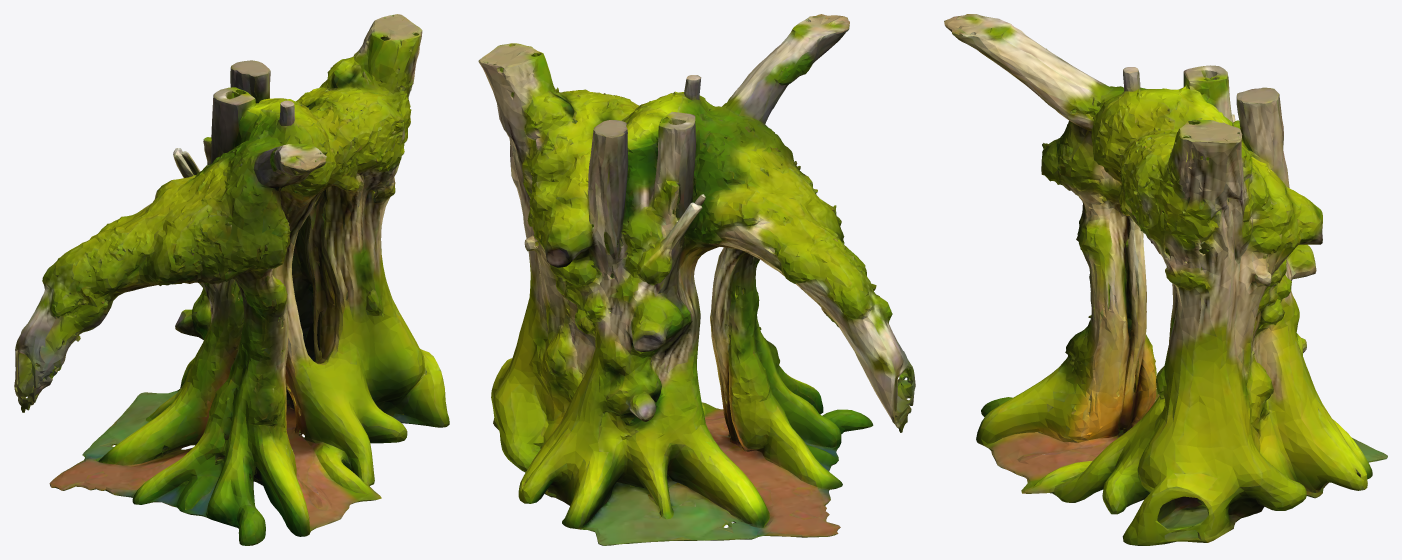
The model's file is swamp_cypress_01.glb.
The picture shows the model from 3 angles, left to right: view 1: azimuth 30°, elevation 25°; view 2: azimuth 150°, elevation 25°; view 3: azimuth 270°, elevation 25°; orthographic projection. The views are drawn at different scales.
Parts seen in each view (by area): view 1: geometry_0; view 2: geometry_0; view 3: geometry_0.
Boxes of the visible parts, x1,y1,x2,y2 form: geometry_0: (14, 14, 449, 545); geometry_0: (478, 14, 915, 545); geometry_0: (944, 14, 1387, 545).
Bounding box in the file's own units: 1 × 0.9327 × 0.8849.
1 material, 1 textured.
